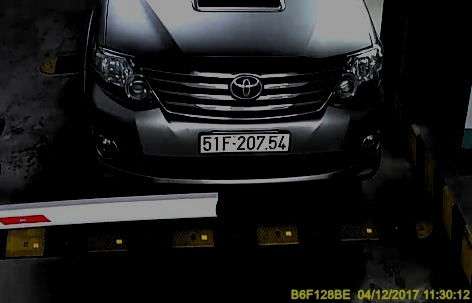plate: (201, 130, 292, 154)
